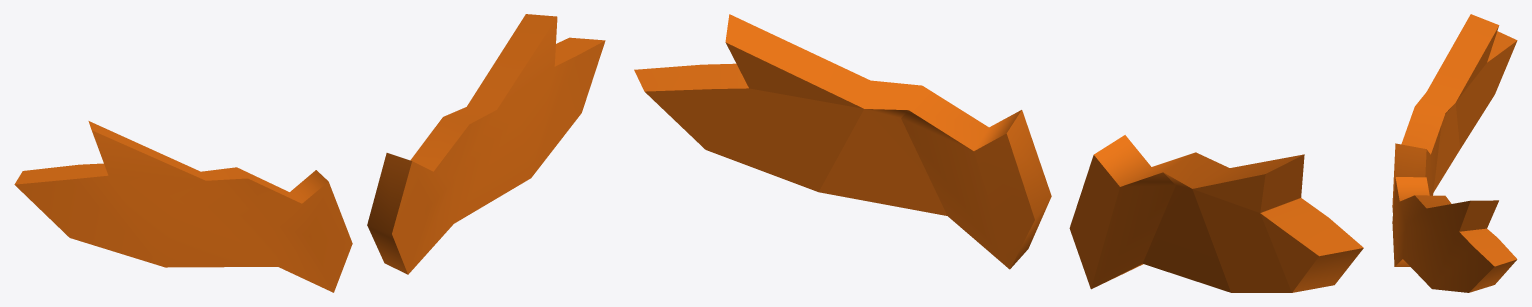
The model's file is Brow_Orange_12.fbx.
3 views of the same model, side by side, from view 1: azimuth 30°, elevation 25°; view 2: azimuth 150°, elevation 25°; view 3: azimuth 270°, elevation 25° (orthographic). The views are drawn at different scales.
Visible parts, largest first — view 1: Brow_Orange_12; view 2: Brow_Orange_12; view 3: Brow_Orange_12.
Boxes of the visible parts, x1,y1,x2,y2 form: Brow_Orange_12: [14, 14, 605, 292]; Brow_Orange_12: [634, 14, 1363, 292]; Brow_Orange_12: [1392, 14, 1517, 292].
Size of the model in its own units: 50.7 by 14.59 by 11.32.
